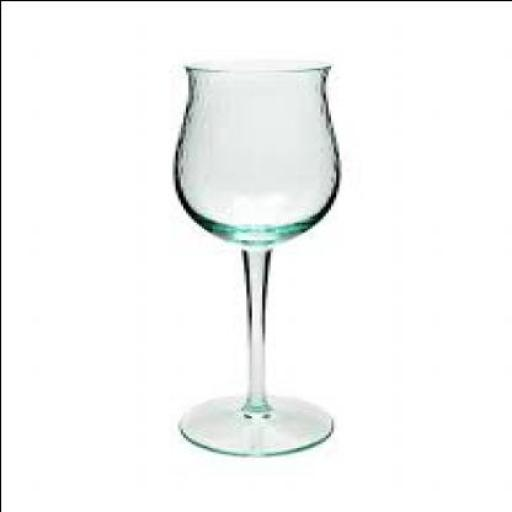glass: (170, 59, 336, 453)
